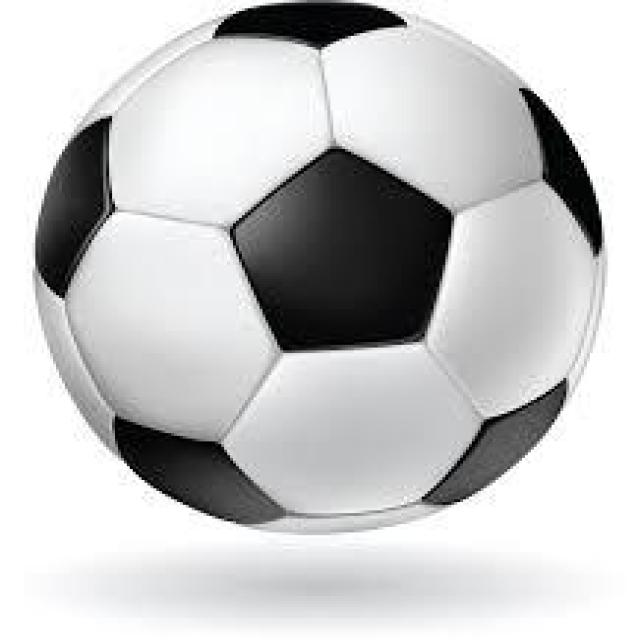Soccer Ball: (32, 3, 604, 535)
